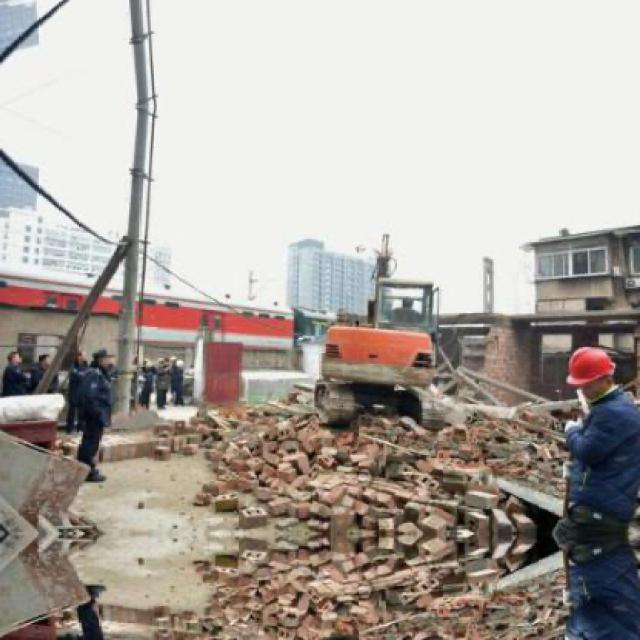con casco: (565, 322, 640, 382)
